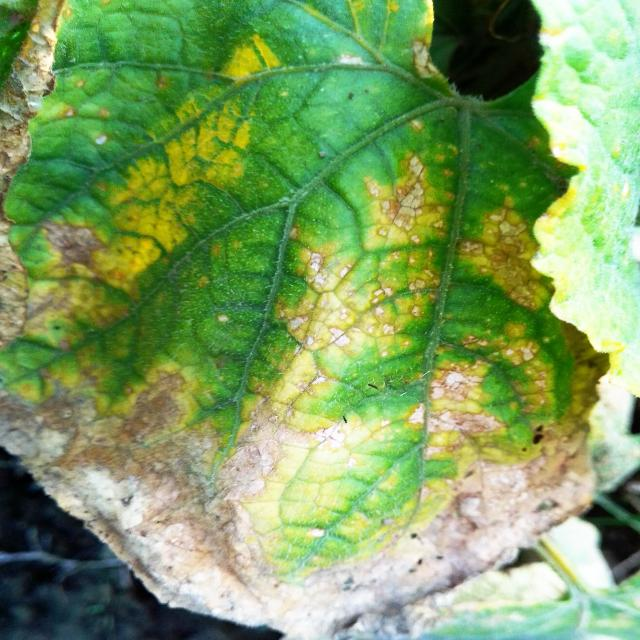Gummy-Stem-Blight: (0, 318, 612, 640), (1, 0, 75, 350)
